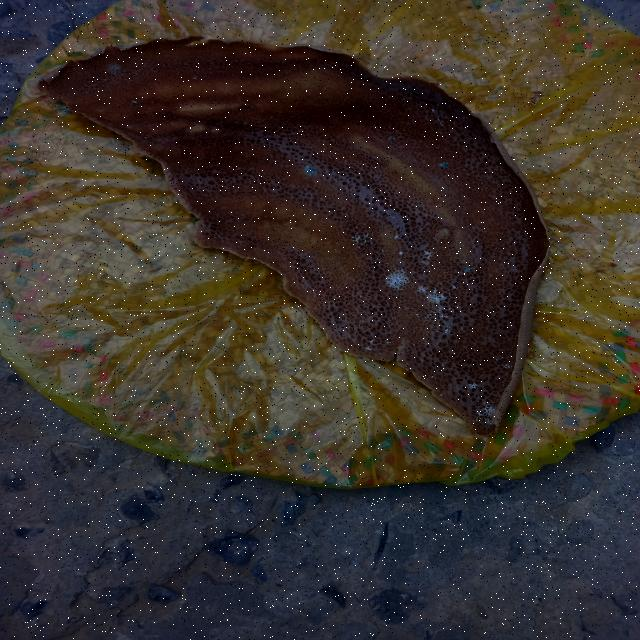injera_mold: (383, 267, 411, 291), (416, 284, 447, 305), (476, 401, 498, 424), (428, 107, 447, 128), (350, 231, 375, 246), (416, 308, 436, 320), (302, 164, 318, 177), (438, 308, 455, 320), (363, 338, 378, 351), (421, 248, 434, 260), (107, 64, 122, 74), (468, 381, 480, 392), (437, 161, 451, 169), (460, 266, 472, 275), (500, 362, 512, 371), (450, 282, 459, 291), (443, 327, 452, 335), (386, 136, 397, 142), (394, 234, 401, 242), (397, 250, 405, 256)
